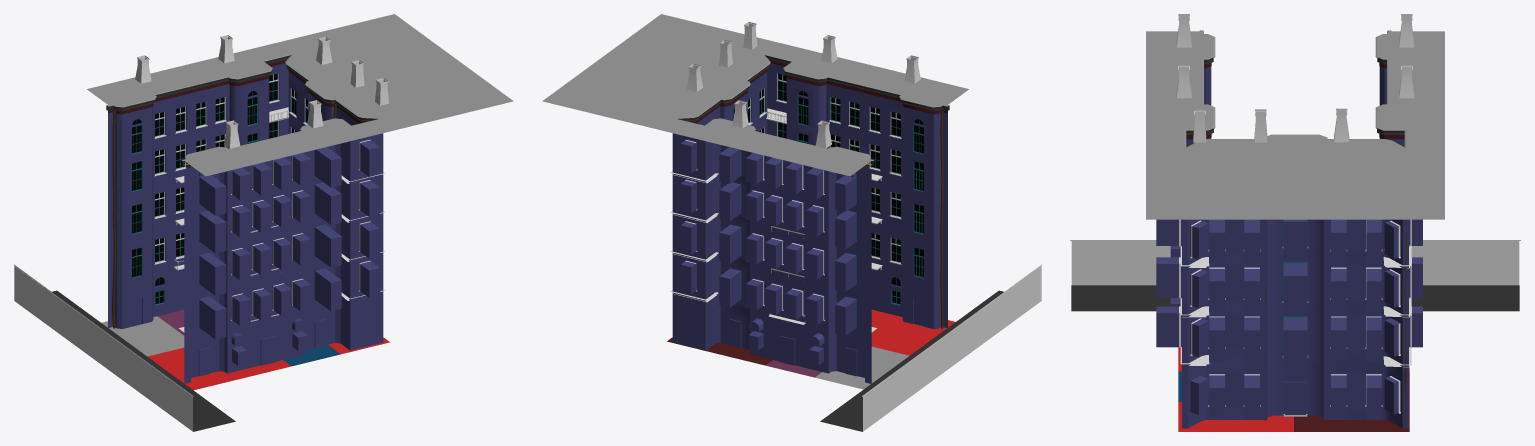
File: Alley Scene.FBX
3 views of the same model, side by side, from view 1: azimuth 30°, elevation 25°; view 2: azimuth 150°, elevation 25°; view 3: azimuth 270°, elevation 25° (orthographic). The views are drawn at different scales.
Visible parts, largest first — view 1: Object041, Box039, Box033, Object014, Object019, Object018, Cylinder015, Object017; view 2: Object041, Box039, Box033, Object014, Object018, Object019, Object016; view 3: Object041, Box039, Box033, Object014, Object022, Object023, Box061, Box612, Box613, Box614, Box615.
Part boxes in pixels (x1=…): Object041: x1=108, y1=63, x2=383, y2=383; Box039: x1=87, y1=14, x2=513, y2=176; Box033: x1=14, y1=264, x2=193, y2=431; Object014: x1=52, y1=290, x2=235, y2=431; Object019: x1=101, y1=316, x2=184, y2=356; Object018: x1=147, y1=347, x2=241, y2=390; Cylinder015: x1=111, y1=109, x2=116, y2=328; Object017: x1=283, y1=344, x2=340, y2=366; Object041: x1=672, y1=63, x2=947, y2=383; Box039: x1=542, y1=14, x2=968, y2=176; Box033: x1=862, y1=264, x2=1041, y2=431; Object014: x1=820, y1=290, x2=1003, y2=431; Object018: x1=871, y1=316, x2=955, y2=355; Object019: x1=815, y1=346, x2=909, y2=389; Object016: x1=716, y1=344, x2=772, y2=365; Object041: x1=1156, y1=66, x2=1422, y2=428; Box039: x1=1146, y1=30, x2=1444, y2=219; Box033: x1=1070, y1=240, x2=1520, y2=285; Object014: x1=1071, y1=285, x2=1519, y2=311; Object022: x1=1178, y1=402, x2=1293, y2=431; Object023: x1=1294, y1=402, x2=1409, y2=431; Box061: x1=1334, y1=108, x2=1349, y2=142; Box612: x1=1399, y1=14, x2=1414, y2=47; Box613: x1=1399, y1=65, x2=1414, y2=98; Box614: x1=1176, y1=14, x2=1191, y2=47; Box615: x1=1176, y1=65, x2=1191, y2=98.
Bounding box in the file's own units: 98.55 × 68.76 × 87.64.
